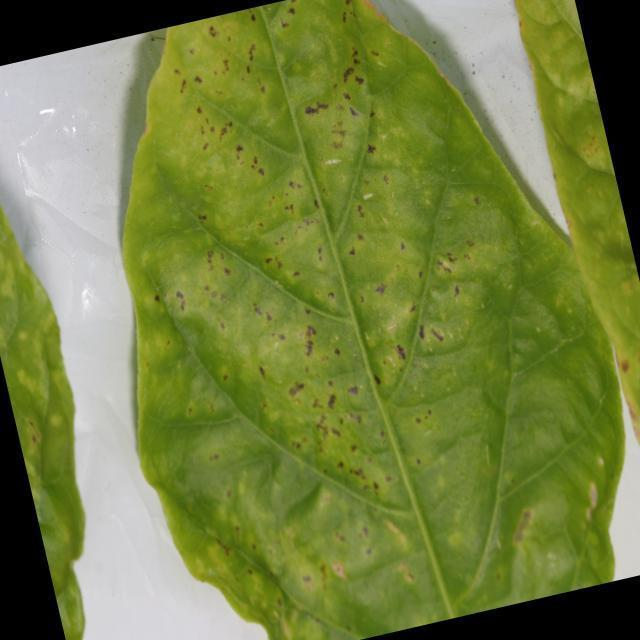Bacterial Spot: (101, 0, 567, 583)
